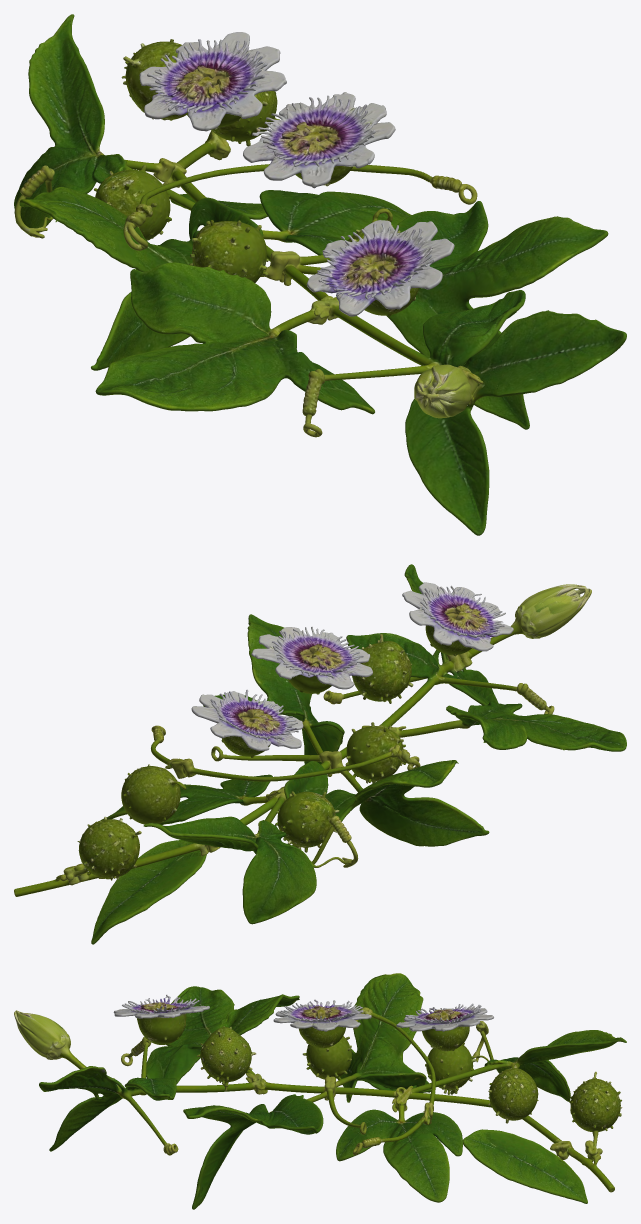
The model's file is passiflora_foetida.fbx.
3 views of the same model, one above another, from view 1: azimuth 30°, elevation 25°; view 2: azimuth 150°, elevation 25°; view 3: azimuth 270°, elevation 25° (orthographic). The views are drawn at different scales.
Parts seen in each view (by area): view 1: tripo_node_cd0ed5ab; view 2: tripo_node_cd0ed5ab; view 3: tripo_node_cd0ed5ab.
Part boxes in pixels (x1=…): tripo_node_cd0ed5ab: x1=14, y1=14, x2=626, y2=535; tripo_node_cd0ed5ab: x1=14, y1=564, x2=626, y2=944; tripo_node_cd0ed5ab: x1=14, y1=973, x2=626, y2=1209.
Bounding box in the file's own units: 60.26 × 30.92 × 97.87.
1 material, 1 textured.
